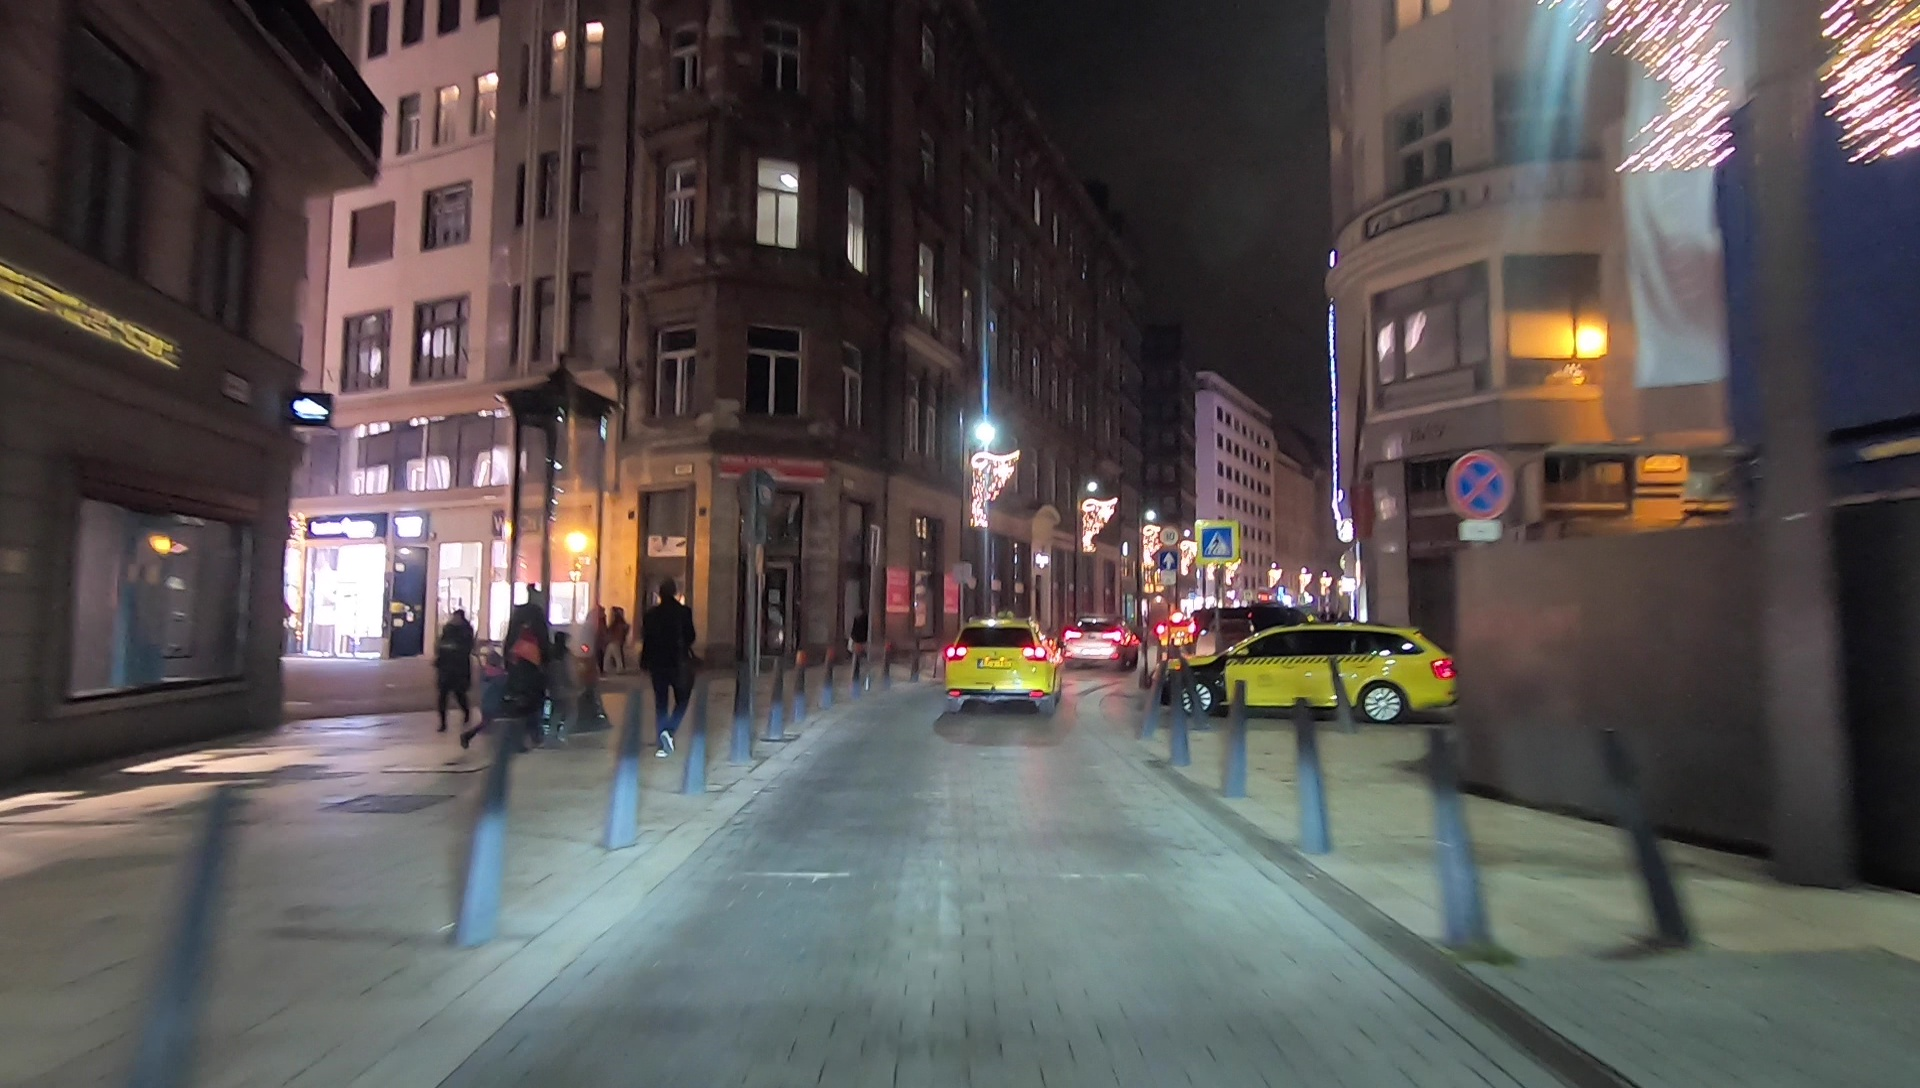person: (645, 583, 691, 751), (507, 588, 550, 752), (435, 607, 475, 733), (463, 649, 506, 753), (549, 633, 580, 744)
